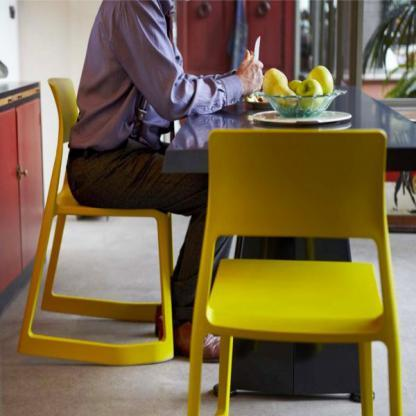chair: (192, 124, 406, 416), (17, 67, 177, 372)
table: (169, 59, 416, 401)
